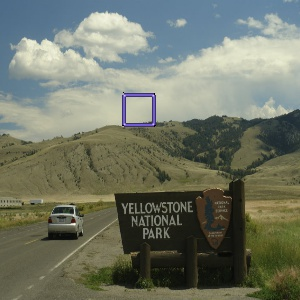square: (120, 91, 158, 128)
